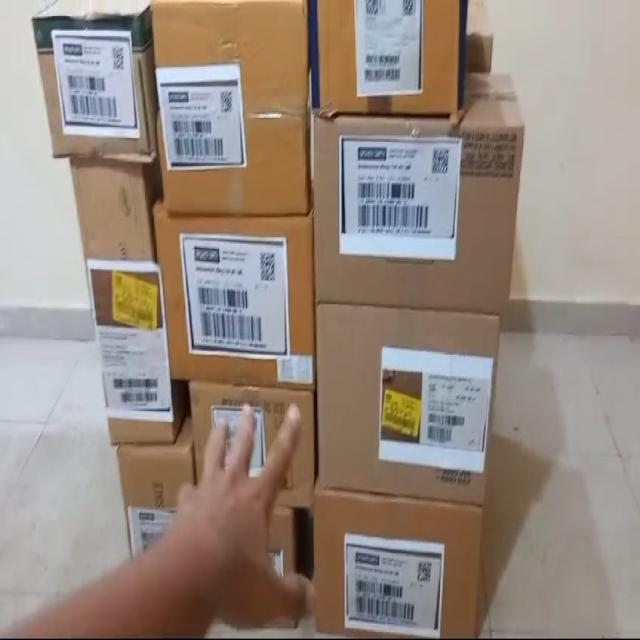BoxFace: (310, 120, 524, 326), (314, 302, 500, 492), (153, 0, 307, 216), (70, 158, 180, 440), (156, 210, 317, 388), (312, 491, 482, 640), (29, 13, 151, 160)
